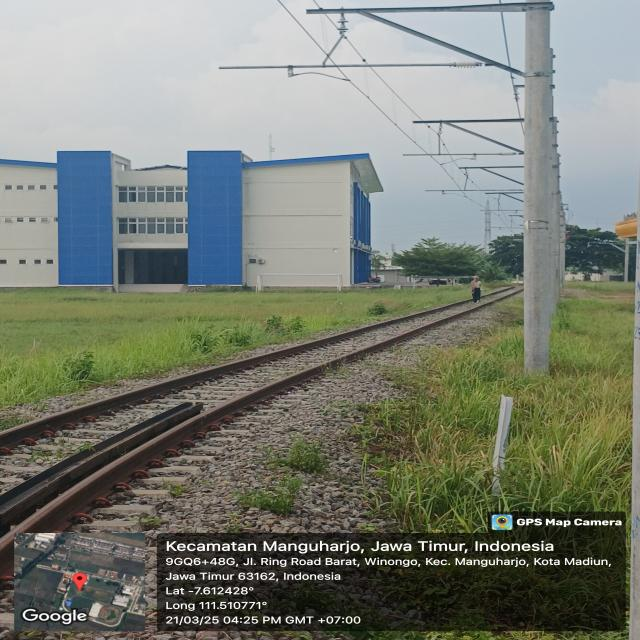rail-detection: (0, 288, 521, 575), (0, 301, 470, 447)
